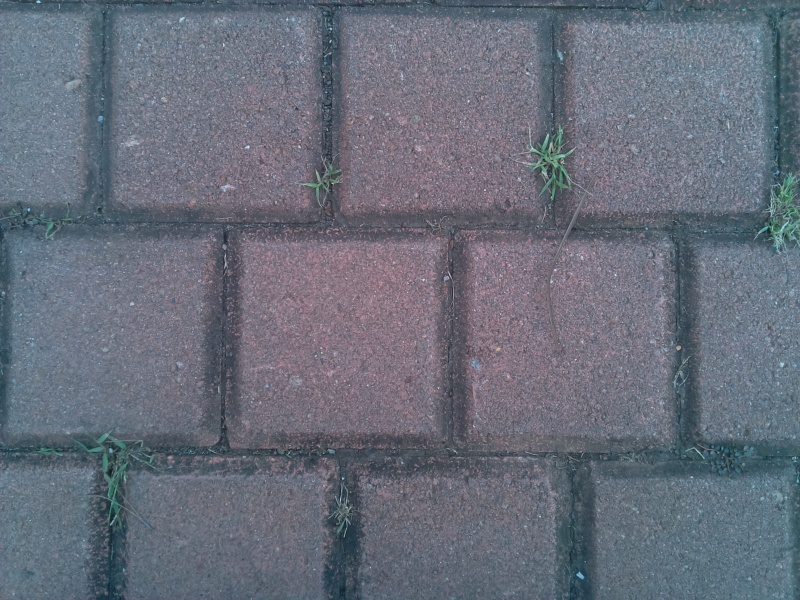Weed: (80, 430, 155, 530), (518, 125, 585, 201), (757, 168, 800, 260), (321, 478, 373, 543), (5, 198, 63, 246), (695, 439, 750, 481), (302, 156, 344, 207)
